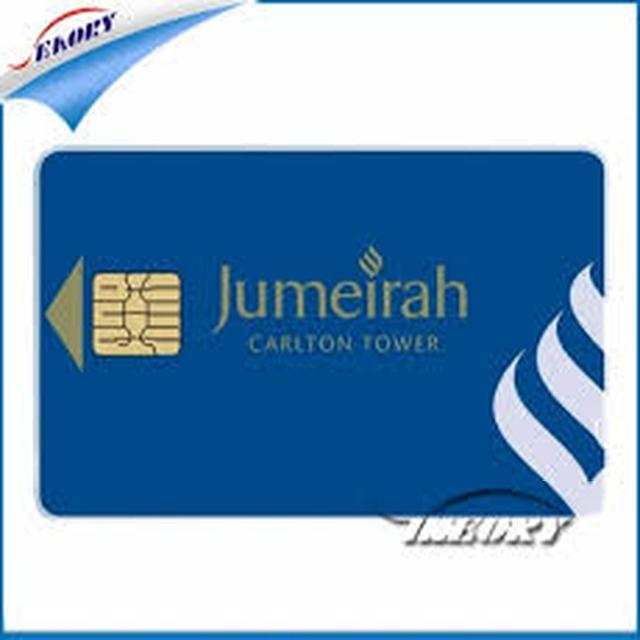card: (38, 148, 597, 540)
